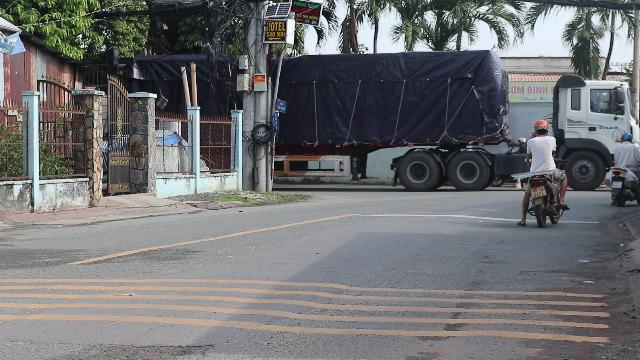helmet: (532, 119, 550, 136)
licenseplate: (530, 186, 546, 198)
motorcyclist: (517, 118, 569, 226)
